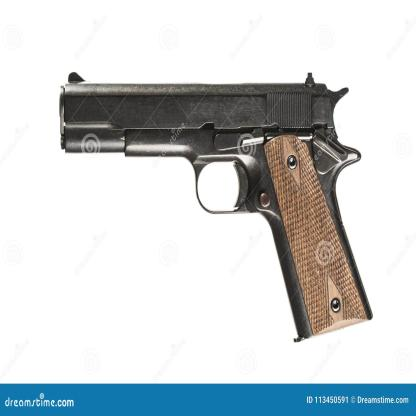handgun: (58, 69, 372, 343)
